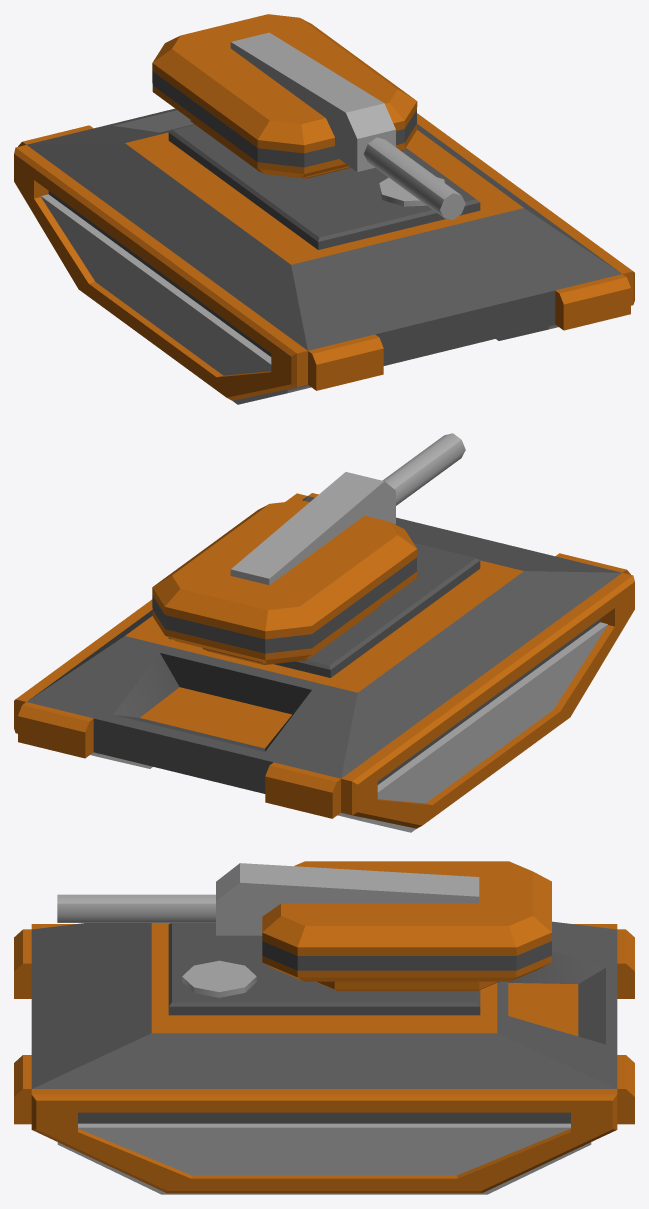
File: Tank.fbx
The picture shows the model from 3 angles, top to bottom: view 1: azimuth 30°, elevation 25°; view 2: azimuth 150°, elevation 25°; view 3: azimuth 270°, elevation 25°; orthographic projection. The views are drawn at different scales.
Visible parts, largest first — view 1: Body, Head, LR, LLoad, LFire, LE; view 2: Body, Head, LR, LLoad, LFire; view 3: Body, Head, LL, LLoad, LFire, LE.
Part boxes in pixels (bbox=[...]): Body: bbox=[14, 108, 634, 400]; Head: bbox=[152, 14, 417, 178]; LR: bbox=[41, 194, 311, 404]; LLoad: bbox=[230, 32, 395, 171]; LFire: bbox=[364, 137, 465, 220]; LE: bbox=[379, 177, 444, 206]; Body: bbox=[14, 493, 634, 828]; Head: bbox=[152, 500, 417, 664]; LR: bbox=[337, 622, 607, 832]; LLoad: bbox=[230, 472, 395, 585]; LFire: bbox=[382, 433, 465, 505]; Body: bbox=[14, 921, 634, 1193]; Head: bbox=[262, 861, 551, 990]; LL: bbox=[57, 1123, 591, 1194]; LLoad: bbox=[216, 863, 479, 935]; LFire: bbox=[57, 894, 215, 922]; LE: bbox=[182, 960, 256, 997].
Size of the model in its own units: 2.77 by 1.77 by 4.17.
